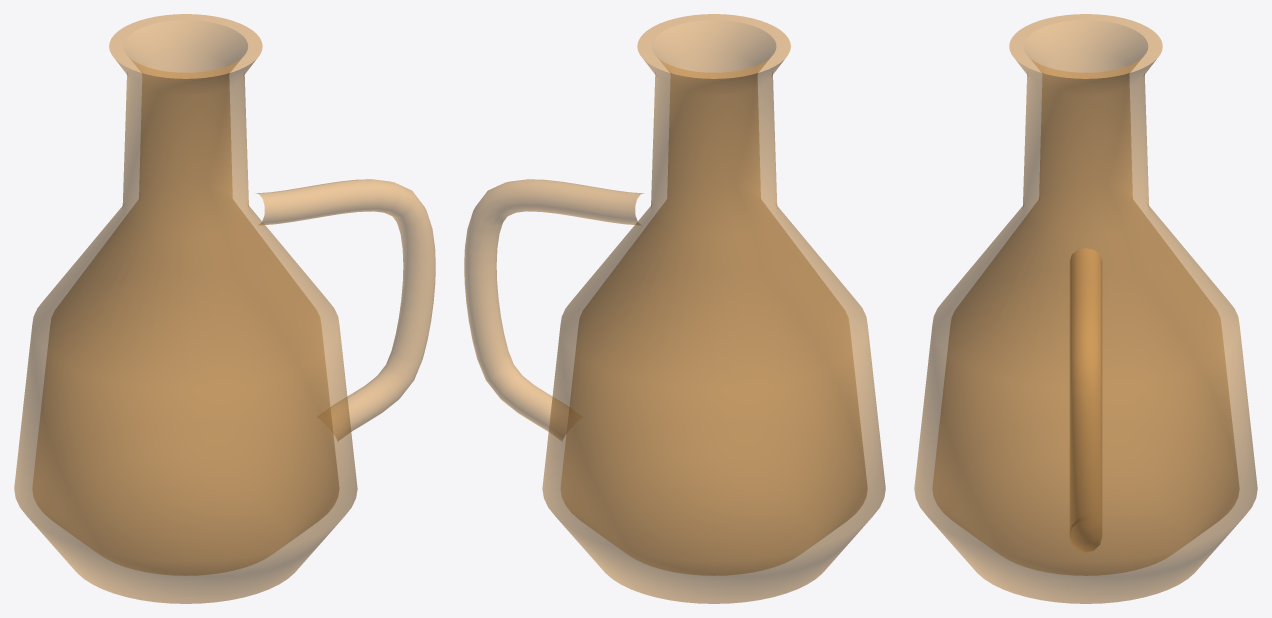
File: glassblowing-studio-and-gallery-handled-carafe-e1ec24ef__29629.glb
3 views of the same model, side by side, from view 1: azimuth 30°, elevation 25°; view 2: azimuth 150°, elevation 25°; view 3: azimuth 270°, elevation 25° (orthographic).
Visible parts, largest first — view 1: handled-carafe; view 2: handled-carafe; view 3: handled-carafe.
Boxes of the visible parts, left/top/right/bottom form: handled-carafe: left=14, top=14, right=435, bottom=603; handled-carafe: left=464, top=14, right=885, bottom=603; handled-carafe: left=914, top=14, right=1257, bottom=603.
Bounding box in the file's own units: 0.5065 × 0.62 × 0.38.
